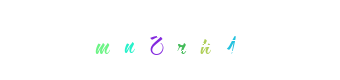1: (165, 0, 245, 80)
2: (116, 0, 196, 80)
H: (134, 0, 214, 80)
M: (90, 0, 170, 80)
N: (115, 0, 195, 80)
R: (130, 0, 210, 80)
